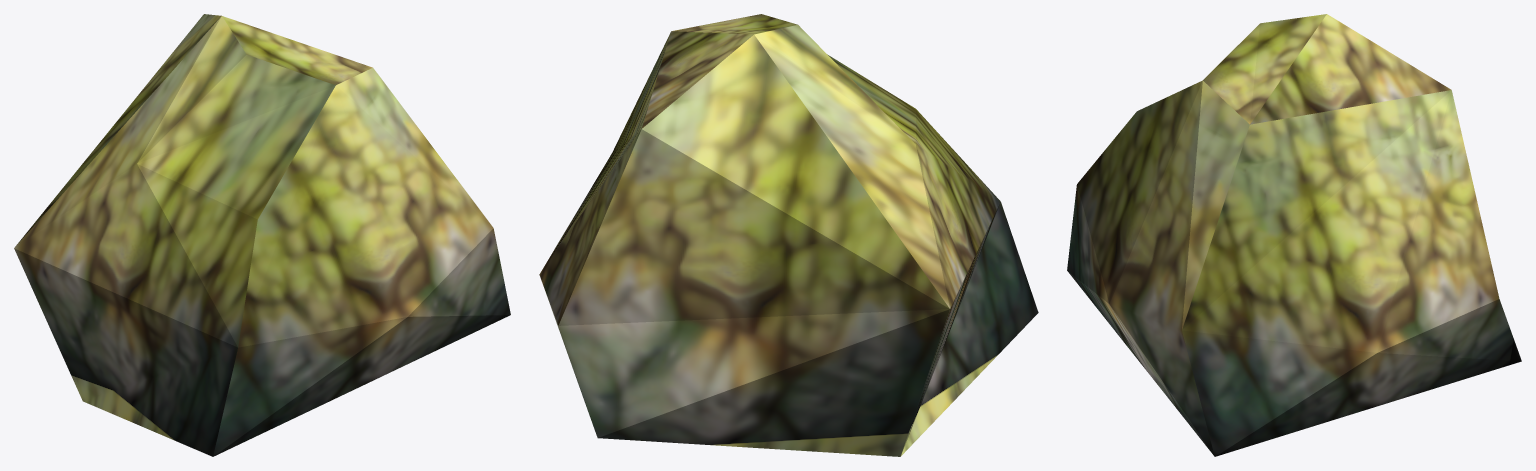
Rendered from Island_1_Rock_1.gltf.
3 renders of one model, left to right at view 1: azimuth 30°, elevation 25°; view 2: azimuth 150°, elevation 25°; view 3: azimuth 270°, elevation 25°, orthographic. The views are drawn at different scales.
Visible parts, largest first — view 1: Island_1_Rock_1; view 2: Island_1_Rock_1; view 3: Island_1_Rock_1.
Part boxes in pixels (left/top/right/bottom): Island_1_Rock_1: left=14, top=14, right=510, bottom=456; Island_1_Rock_1: left=539, top=14, right=1038, bottom=456; Island_1_Rock_1: left=1067, top=14, right=1521, bottom=456.
Size of the model in its own units: 5.28 by 4.17 by 4.72.
Materials: 1 (1 with a texture image).
